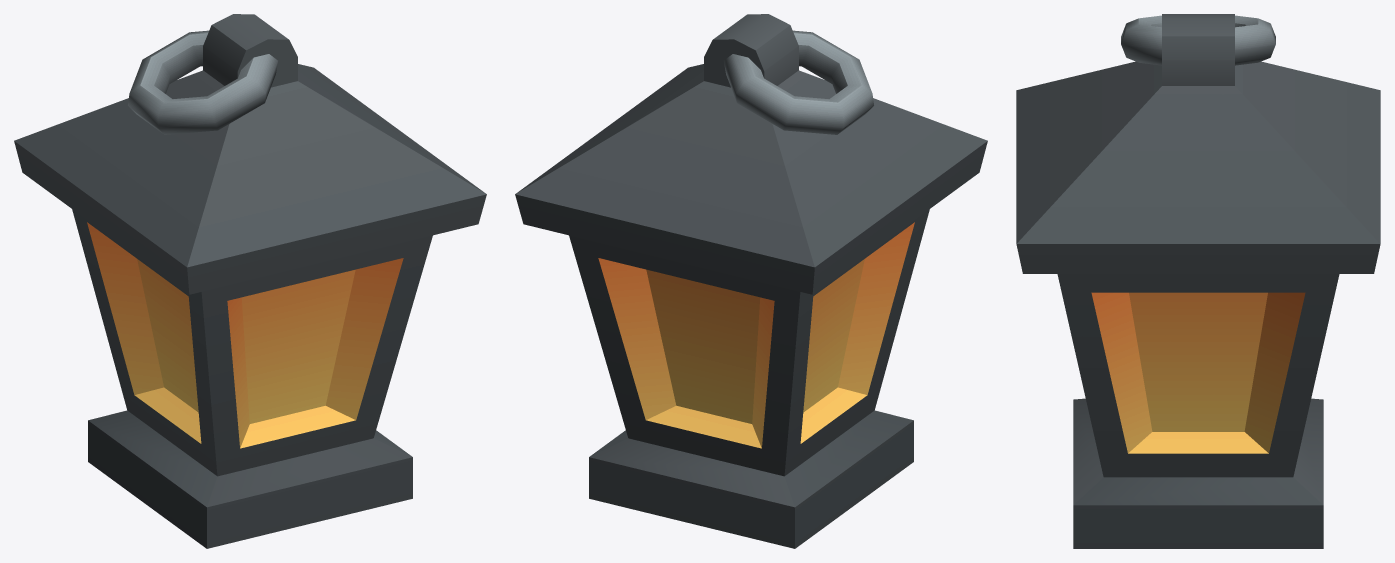
File: hb_lantern_standing.glb
3 renders of one model, left to right at view 1: azimuth 30°, elevation 25°; view 2: azimuth 150°, elevation 25°; view 3: azimuth 270°, elevation 25°, orthographic. The views are drawn at different scales.
Parts seen in each view (by area): view 1: lantern_standing; view 2: lantern_standing; view 3: lantern_standing.
Part boxes in pixels (x1=…): lantern_standing: x1=14, y1=14, x2=486, y2=548; lantern_standing: x1=515, y1=14, x2=987, y2=548; lantern_standing: x1=1016, y1=14, x2=1380, y2=548.
Size of the model in its own units: 1.18 by 1.7 by 1.18.
1 material, 1 textured.
